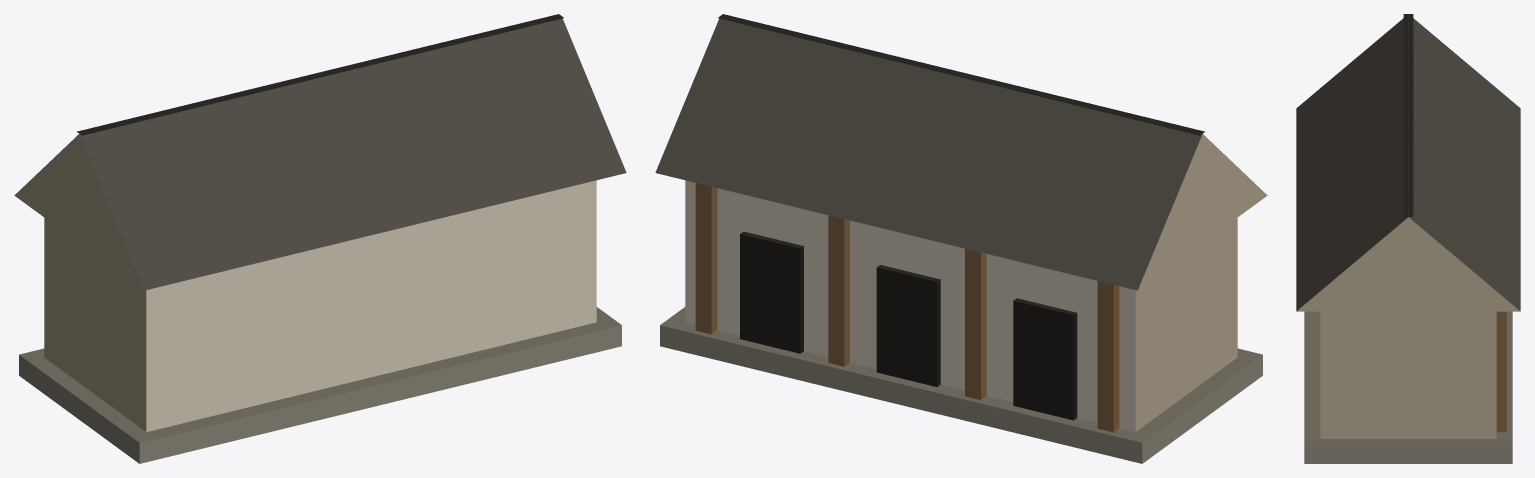
The model's file is bld_dorm.glb.
3 renders of one model, left to right at view 1: azimuth 30°, elevation 25°; view 2: azimuth 150°, elevation 25°; view 3: azimuth 270°, elevation 25°, orthographic. The views are drawn at different scales.
Visible parts, largest first — view 1: bld_dorm; view 2: bld_dorm; view 3: bld_dorm.
Part boxes in pixels (x1=…): bld_dorm: x1=14, y1=14, x2=626, y2=463; bld_dorm: x1=655, y1=14, x2=1267, y2=463; bld_dorm: x1=1296, y1=14, x2=1520, y2=463.
Size of the model in its own units: 1.2 by 0.68 by 0.56.
Materials: 1 (1 with a texture image).
